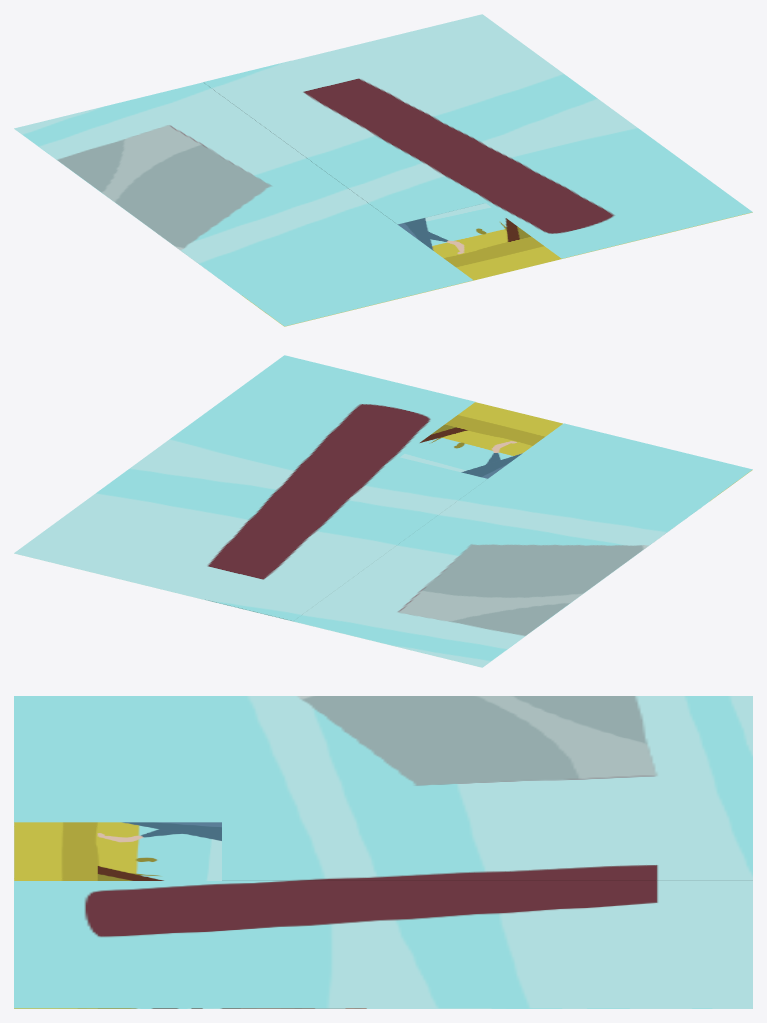
Rendered from Level 169 roll to mow grass.fbx.
3 renders of one model, top to bottom at view 1: azimuth 30°, elevation 25°; view 2: azimuth 150°, elevation 25°; view 3: azimuth 270°, elevation 25°, orthographic. The views are drawn at different scales.
Parts seen in each view (by area): view 1: Mesh, Blend; view 2: Mesh, Blend; view 3: Mesh, Blend.
Boxes of the visible parts, x1,y1,x2,y2 form: Mesh: (14,14,752,326); Blend: (203,60,485,224); Mesh: (14,355,752,667); Blend: (205,457,487,621); Mesh: (14,696,752,1008); Blend: (222,822,752,880).
Bounding box in the file's own units: 2400 × 2.66 × 2400.
